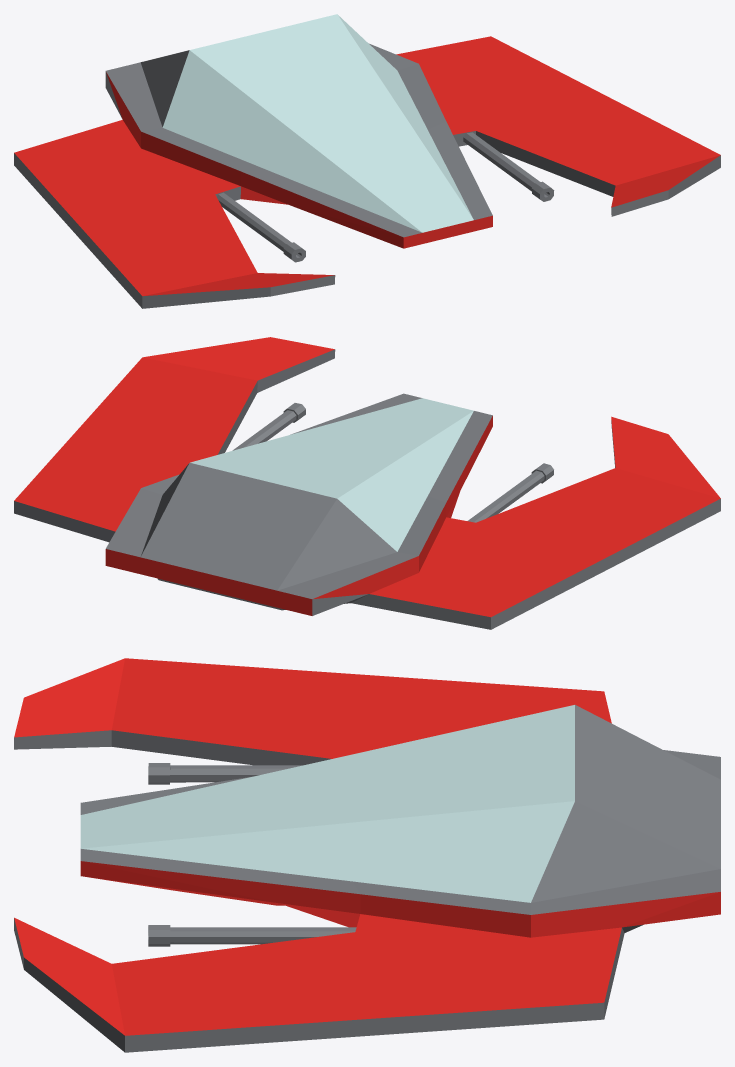
Rendered from drone_9_1.gltf.
3 views of the same model, one above another, from view 1: azimuth 30°, elevation 25°; view 2: azimuth 150°, elevation 25°; view 3: azimuth 270°, elevation 25° (orthographic). The views are drawn at different scales.
Visible parts, largest first — view 1: 9.001; view 2: 9.001; view 3: 9.001.
Boxes of the visible parts, left/top/right/bottom form: 9.001: left=14, top=14, right=720, bottom=308; 9.001: left=14, top=337, right=720, bottom=629; 9.001: left=14, top=658, right=720, bottom=1052.
Size of the model in its own units: 6.13 by 0.8407 by 4.85.
Materials: 1 (1 with a texture image).
